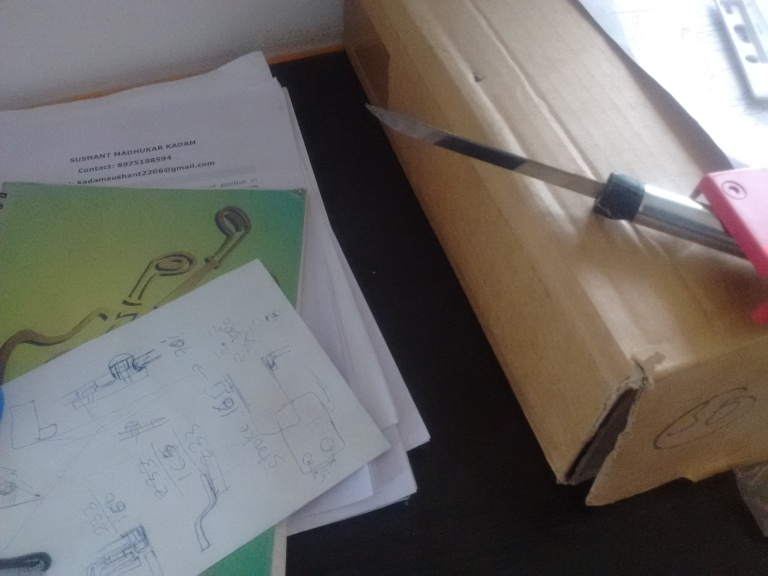knife: (366, 103, 693, 243)
